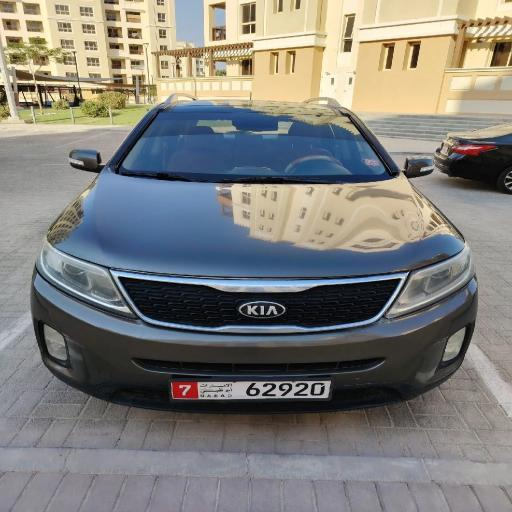license-plates: (171, 380, 331, 400)
